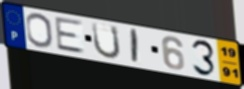3: (188, 39, 218, 78)
6: (160, 36, 186, 72)
E: (54, 17, 87, 56)
I: (130, 28, 140, 66)
O: (24, 12, 55, 50)
U: (90, 21, 122, 60)
